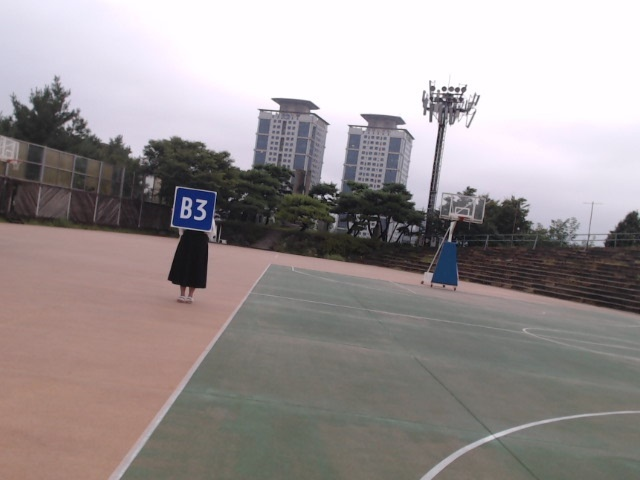delivery_b3: (172, 184, 218, 232)
